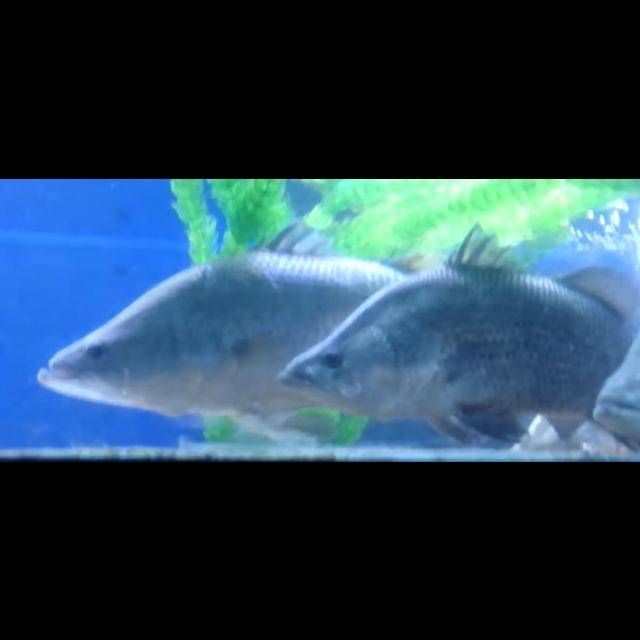Seabass: (36, 220, 438, 450), (280, 223, 630, 444)
